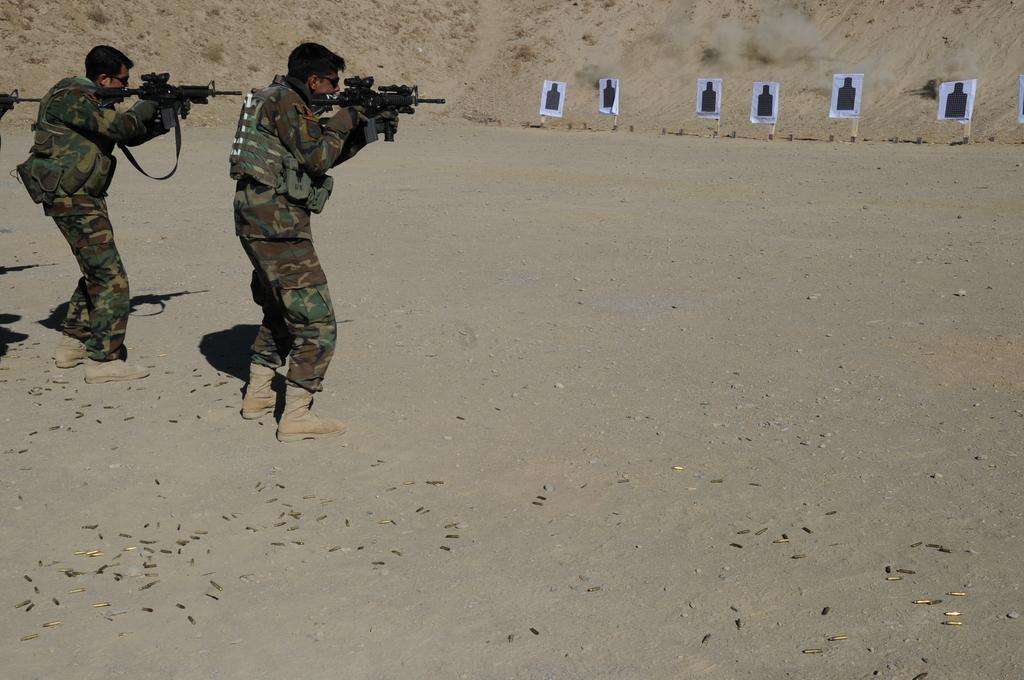Rifle: (85, 65, 246, 131), (310, 65, 436, 147), (0, 83, 45, 151)
